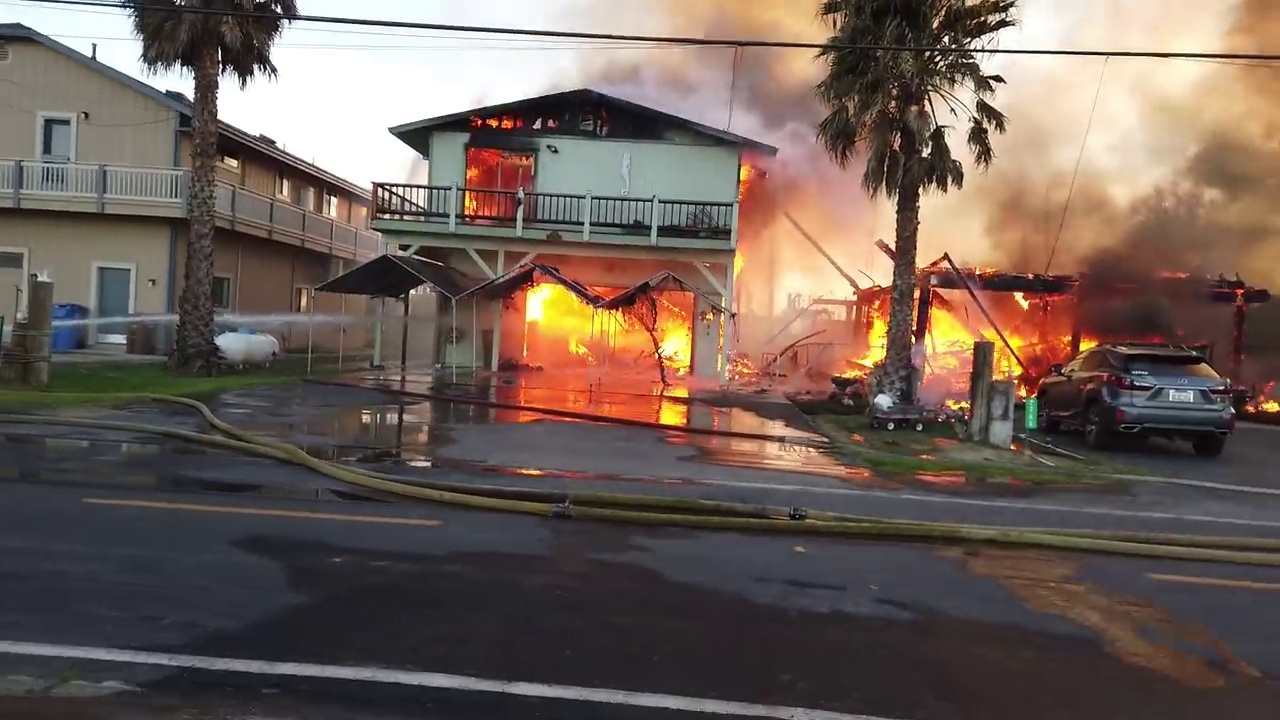fire: (816, 262, 1046, 403), (465, 147, 532, 217), (526, 286, 591, 335), (596, 306, 656, 353), (657, 324, 692, 367), (1244, 377, 1279, 413), (729, 349, 761, 382), (739, 154, 766, 190), (1070, 329, 1101, 358), (729, 246, 748, 279), (571, 338, 588, 354)
smoke: (971, 2, 1279, 266), (554, 1, 837, 159), (1083, 270, 1232, 341), (781, 169, 884, 258), (917, 194, 971, 261), (1246, 293, 1280, 369), (573, 358, 656, 383), (1047, 298, 1069, 368), (528, 337, 571, 371)
